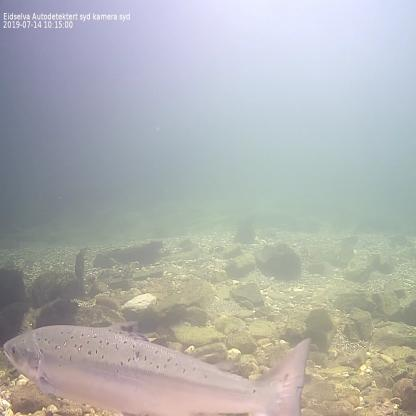salmon: (1, 318, 316, 416)
